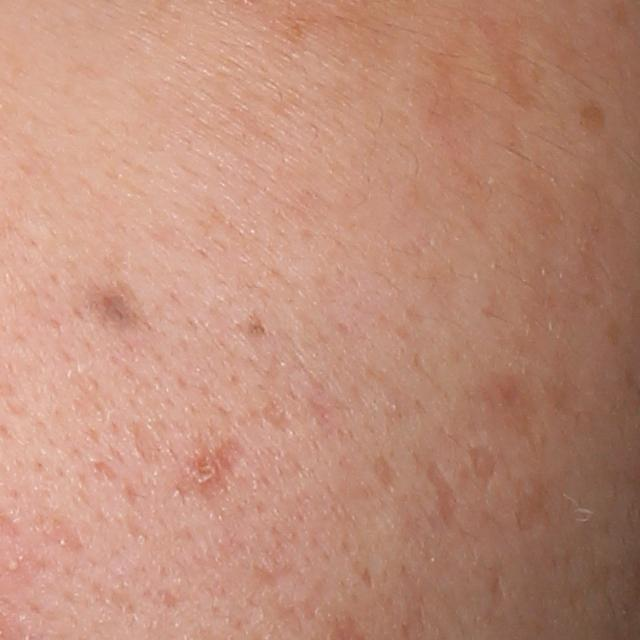atrophic_scar: (423, 461, 460, 526), (128, 417, 168, 471), (464, 439, 495, 485), (260, 392, 293, 435), (370, 457, 402, 489)
comedo: (0, 554, 22, 575)
melasma: (577, 100, 611, 133)
papule: (185, 452, 220, 491)
